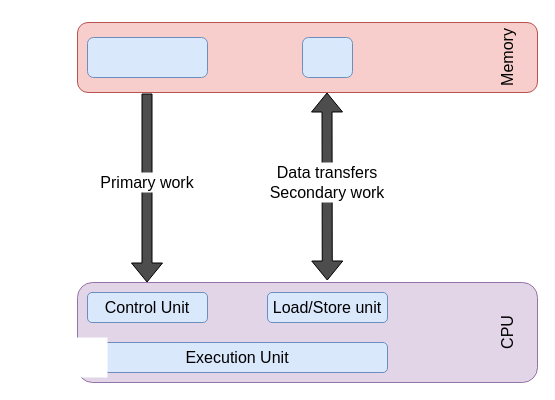
Image size: 555x400. Some labels were removed from this diagram. Each missing label, with the centre of its shape:
Data: the point at 327,57
Instruction execution: the point at 62,357
Program code: the point at 147,57
